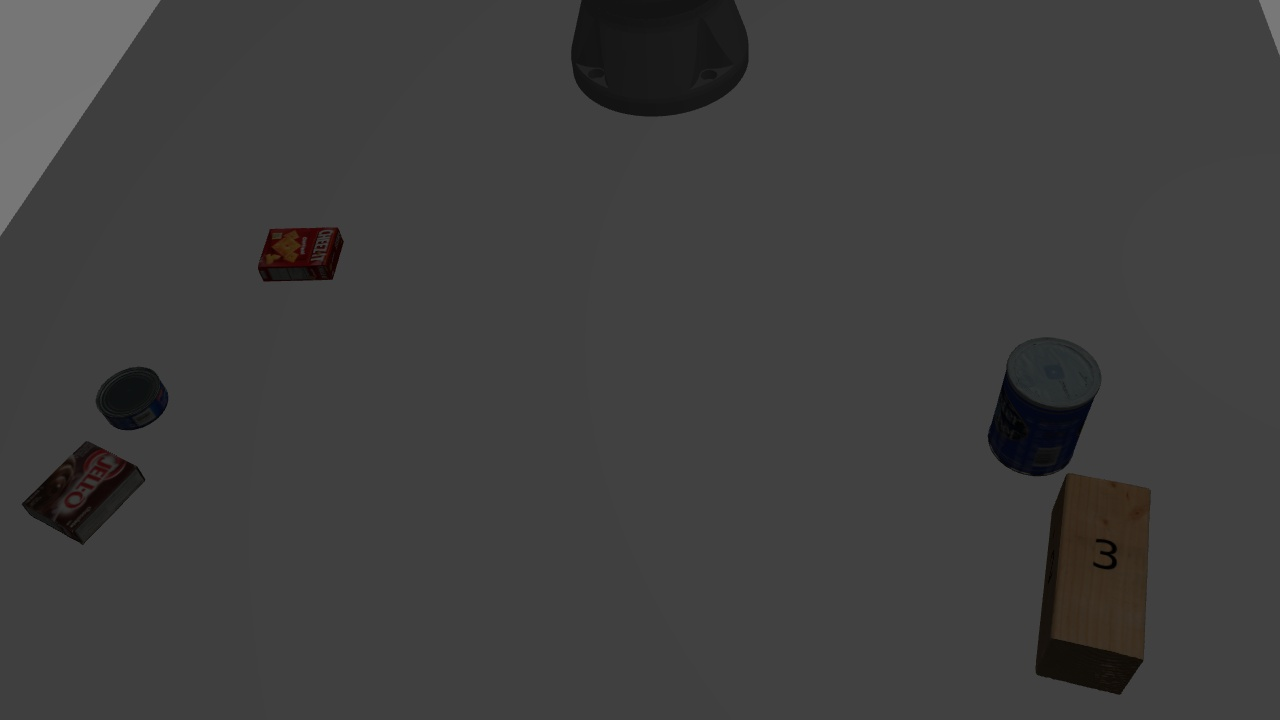cracker_box: (255, 220, 349, 283)
master_chef_can: (977, 330, 1094, 486)
pudding_box: (16, 435, 151, 547)
tuna_fish_can: (112, 360, 174, 433)
wood_block: (1030, 473, 1153, 701)
